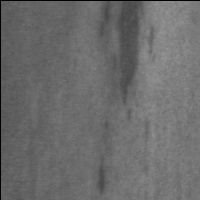inclusion: (93, 2, 159, 122), (93, 153, 114, 200)
